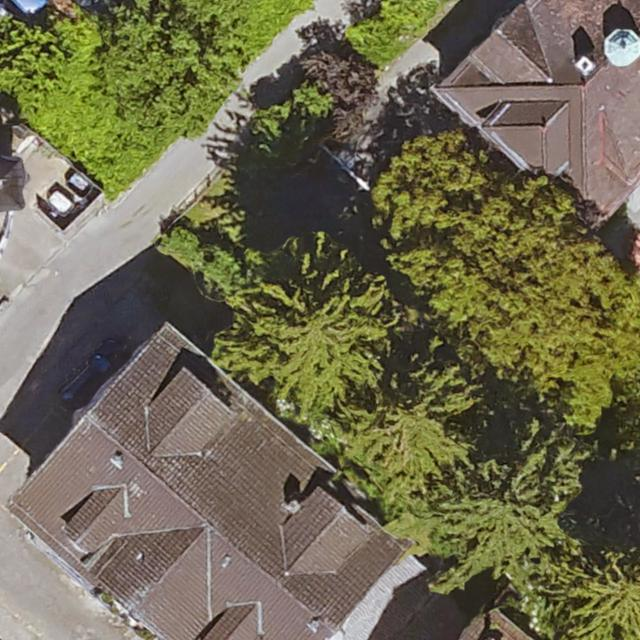tree: (356, 133, 637, 408), (209, 240, 394, 416), (425, 424, 585, 583), (334, 355, 479, 500), (99, 1, 226, 131), (0, 0, 98, 134), (528, 544, 640, 640)
